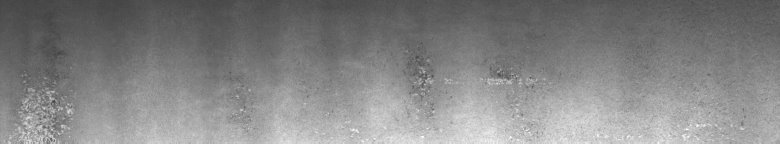hc: (15, 51, 76, 136)
